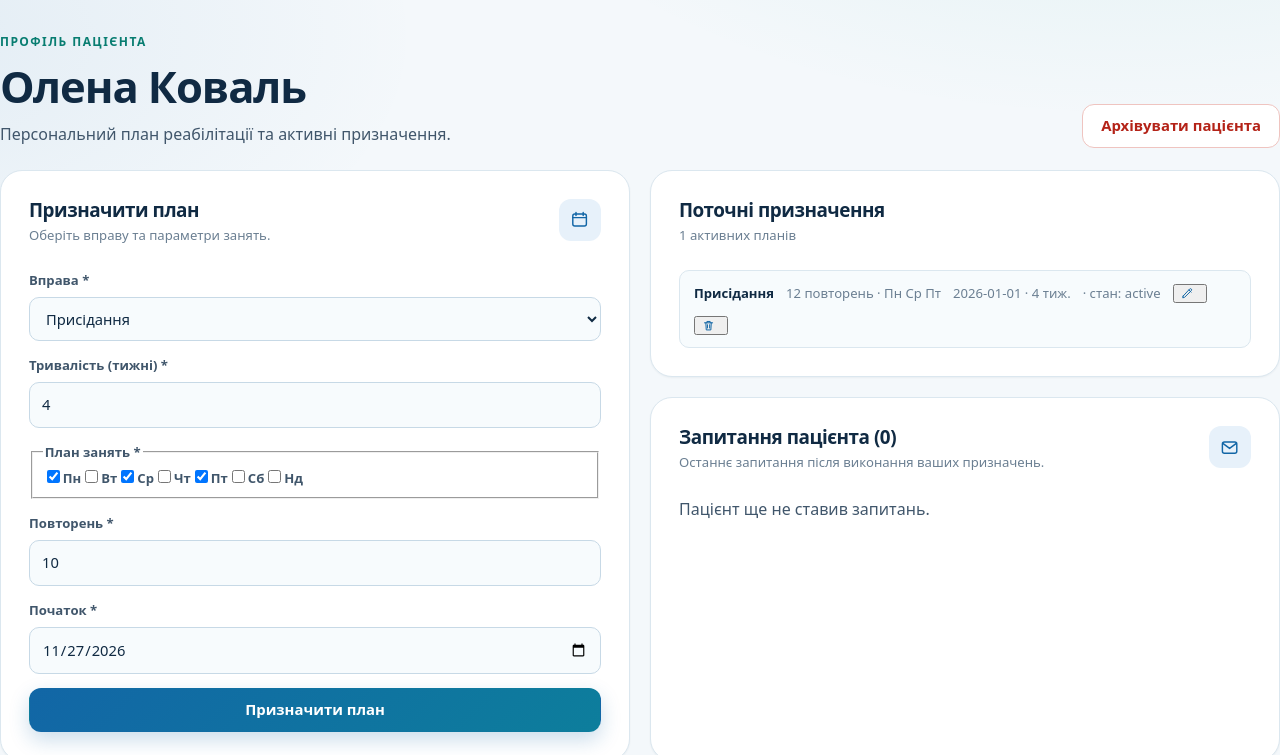
Test case: Editing an assignment › leaves the edit mode without saving when the doctor cancels
The width and height of the screenshot is (1280, 755).
Click the button named "Змінити Присідання" at (1190, 293), box [1173, 284, 1207, 303]
(page scrolled)
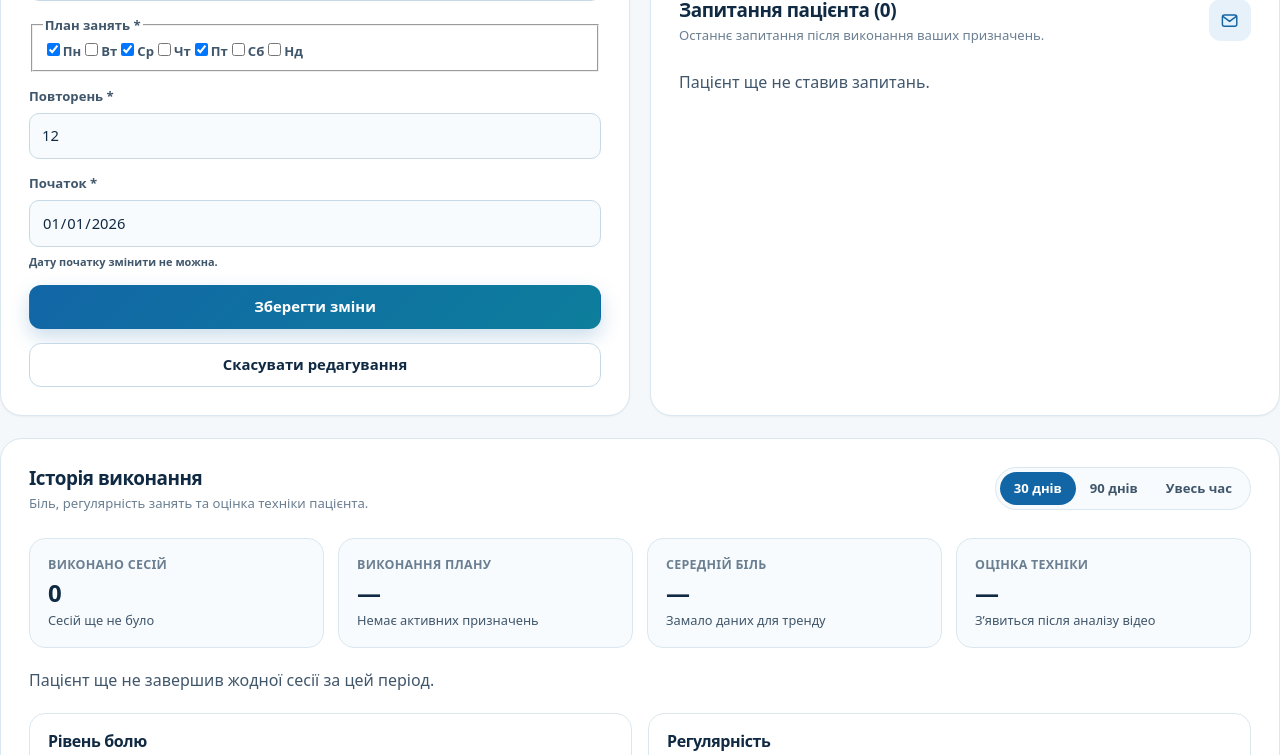
Click the button "Скасувати редагування" at (315, 365), box [29, 343, 601, 387]
(page scrolled)
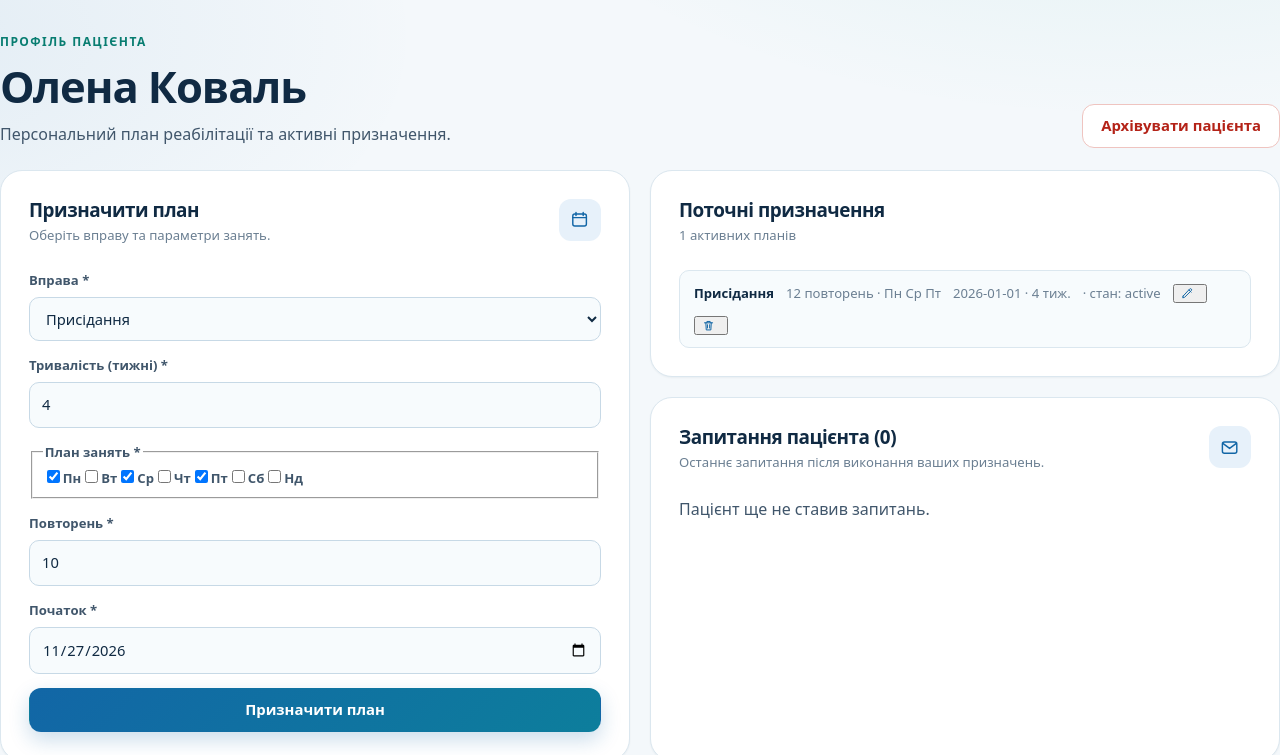
Check: the heading "Призначити план" is shown, box [29, 197, 199, 223]
